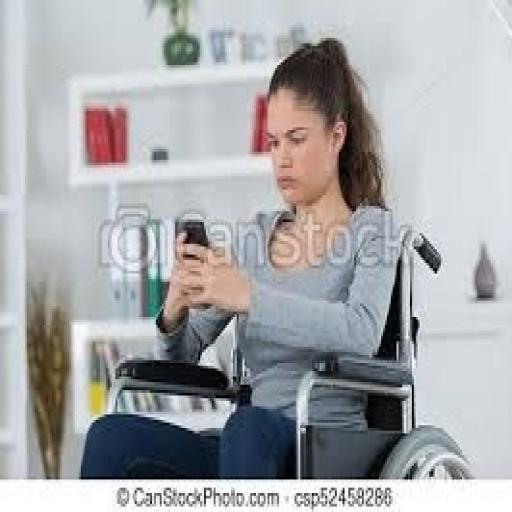calling: (77, 35, 404, 480)
